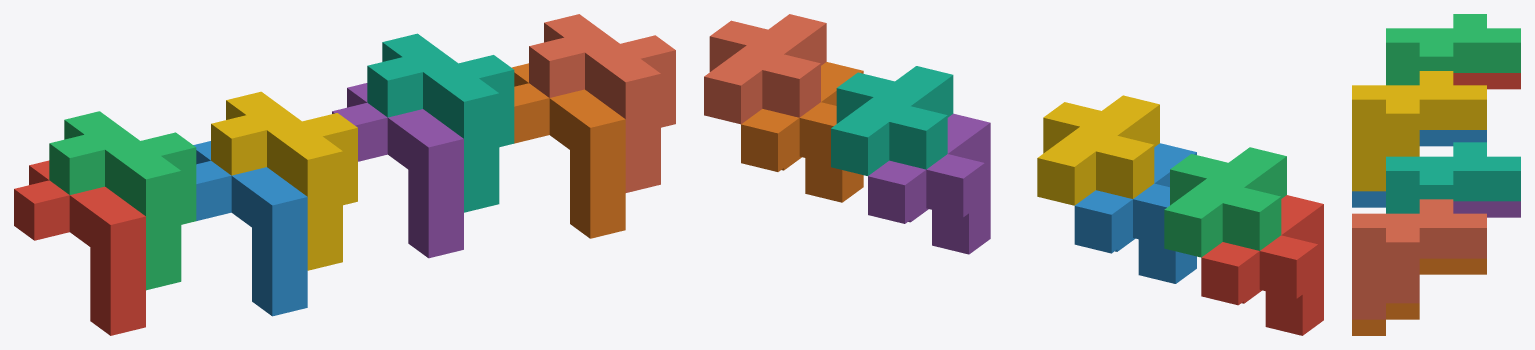
Rendered from tiling.obj.
3 views of the same model, side by side, from view 1: azimuth 30°, elevation 25°; view 2: azimuth 150°, elevation 25°; view 3: azimuth 270°, elevation 25° (orthographic). The views are drawn at different scales.
Visible parts, largest first — view 1: copy_1_domain_7, copy_1_domain_3, copy_1_domain_4, copy_1_domain_8, copy_1_domain_1, copy_1_domain_5, copy_1_domain_6, copy_1_domain_2; view 2: copy_1_domain_8, copy_1_domain_3, copy_1_domain_4, copy_1_domain_7, copy_1_domain_5, copy_1_domain_1, copy_1_domain_2, copy_1_domain_6; view 3: copy_1_domain_8, copy_1_domain_4, copy_1_domain_7, copy_1_domain_3, copy_1_domain_6, copy_1_domain_2, copy_1_domain_1, copy_1_domain_5.
Boxes of the visible parts, left/top/right/bottom form: copy_1_domain_7: left=367, top=33, right=514, bottom=212; copy_1_domain_3: left=49, top=111, right=196, bottom=290; copy_1_domain_4: left=211, top=91, right=357, bottom=270; copy_1_domain_8: left=529, top=14, right=675, bottom=192; copy_1_domain_1: left=14, top=160, right=145, bottom=335; copy_1_domain_5: left=332, top=83, right=463, bottom=258; copy_1_domain_6: left=511, top=63, right=625, bottom=238; copy_1_domain_2: left=193, top=141, right=307, bottom=316; copy_1_domain_8: left=704, top=14, right=826, bottom=124; copy_1_domain_3: left=1164, top=147, right=1286, bottom=257; copy_1_domain_4: left=1037, top=95, right=1159, bottom=205; copy_1_domain_7: left=831, top=66, right=953, bottom=175; copy_1_domain_5: left=868, top=113, right=990, bottom=254; copy_1_domain_1: left=1201, top=195, right=1323, bottom=335; copy_1_domain_2: left=1074, top=143, right=1196, bottom=283; copy_1_domain_6: left=741, top=62, right=863, bottom=202; copy_1_domain_8: left=1352, top=199, right=1486, bottom=319; copy_1_domain_4: left=1352, top=71, right=1486, bottom=191; copy_1_domain_7: left=1386, top=142, right=1520, bottom=213; copy_1_domain_3: left=1386, top=14, right=1520, bottom=85; copy_1_domain_6: left=1352, top=258, right=1486, bottom=335; copy_1_domain_2: left=1352, top=130, right=1486, bottom=207; copy_1_domain_1: left=1453, top=73, right=1520, bottom=89; copy_1_domain_5: left=1453, top=201, right=1520, bottom=217.
Size of the model in its own units: 17 by 4 by 5.
